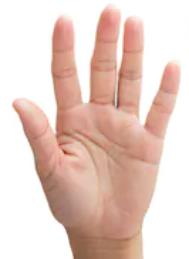down: (9, 2, 183, 240)
